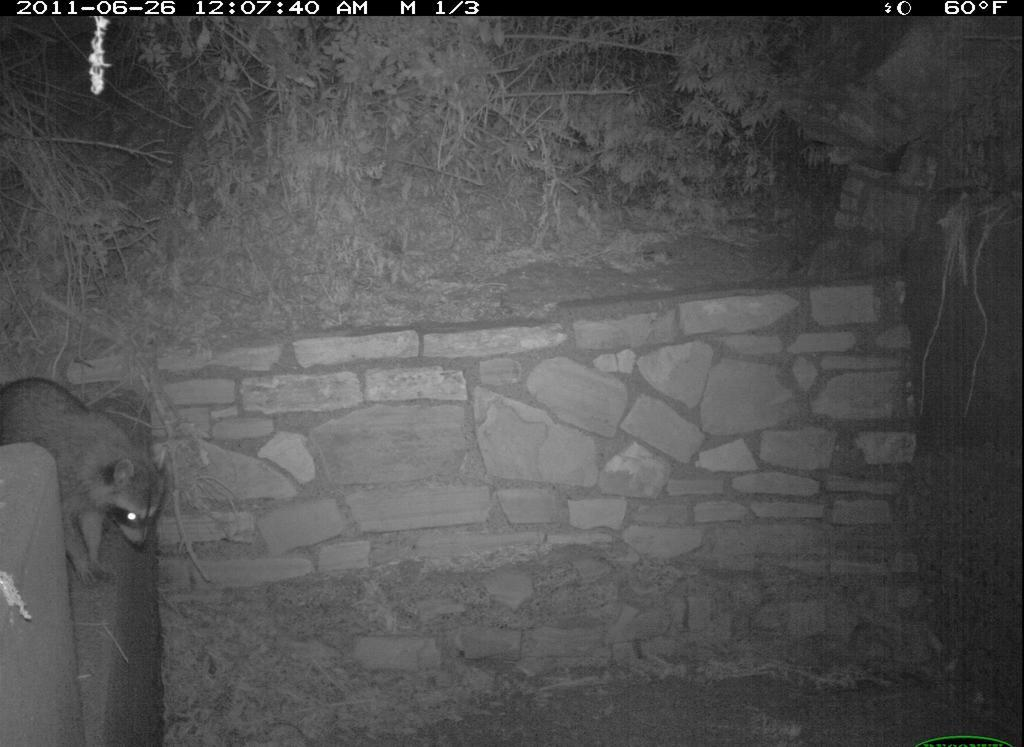raccoon: (3, 378, 176, 591)
